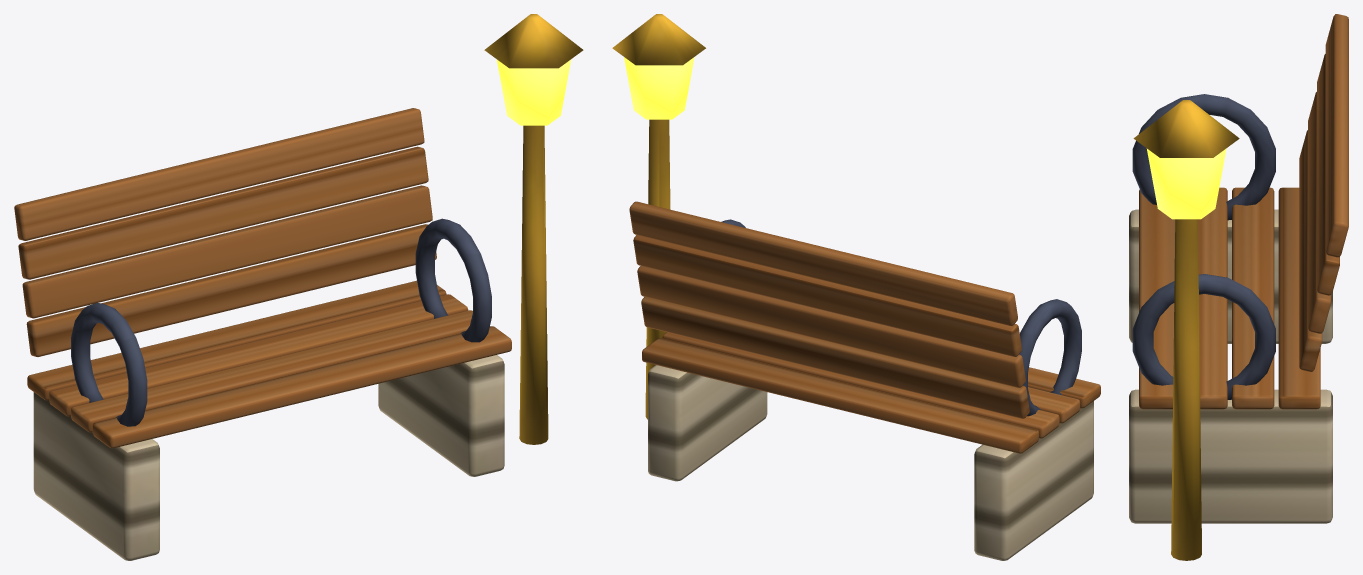
File: g_prop_bench.glb
The picture shows the model from 3 angles, left to right: view 1: azimuth 30°, elevation 25°; view 2: azimuth 150°, elevation 25°; view 3: azimuth 270°, elevation 25°; orthographic projection. The views are drawn at different scales.
Parts seen in each view (by area): view 1: BncBackSlat_1, BncBackSlat_2, BncBackSlat_3, BncBackSlat_0, BncLegBase_-0.48, BncSeatSlat_0, BncLegBase_0.48, BncSeatSlat_1, BncLampPole, BncSeatSlat_2, BncSeatSlat_3, BncArmScroll_-0.48 (+3 smaller); view 2: BncBackSlat_3, BncLegBase_-0.48, BncBackSlat_0, BncBackSlat_1, BncBackSlat_2, BncSeatSlat_3, BncLegBase_0.48, BncSeatSlat_2, BncLampHead, BncArmScroll_-0.48, BncLampRoof, BncLampPole (+2 smaller); view 3: BncLegBase_0.48, BncLampPole, BncSeatSlat_2, BncSeatSlat_3, BncArmScroll_0.48, BncBackSlat_3, BncSeatSlat_1, BncSeatSlat_0, BncArmScroll_-0.48, BncLampHead, BncLampRoof, BncLegBase_-0.48 (+3 smaller).
Part boxes in pixels (left/top/right/bottom): BncBackSlat_1: left=22, top=185, right=432, bottom=318; BncBackSlat_2: left=18, top=146, right=428, bottom=279; BncBackSlat_3: left=14, top=108, right=424, bottom=240; BncBackSlat_0: left=26, top=224, right=436, bottom=356; BncLegBase_-0.48: left=33, top=392, right=159, bottom=560; BncSeatSlat_0: left=92, top=326, right=511, bottom=448; BncLegBase_0.48: left=378, top=355, right=504, bottom=476; BncSeatSlat_1: left=71, top=310, right=472, bottom=432; BncLampPole: left=519, top=125, right=548, bottom=444; BncSeatSlat_2: left=49, top=294, right=468, bottom=416; BncSeatSlat_3: left=27, top=280, right=446, bottom=400; BncArmScroll_-0.48: left=71, top=302, right=147, bottom=426; BncBackSlat_3: left=629, top=201, right=1017, bottom=325; BncLegBase_-0.48: left=974, top=401, right=1093, bottom=560; BncBackSlat_0: left=641, top=296, right=1029, bottom=418; BncBackSlat_1: left=637, top=266, right=1025, bottom=387; BncBackSlat_2: left=633, top=235, right=1021, bottom=356; BncSeatSlat_3: left=642, top=338, right=1038, bottom=453; BncLegBase_0.48: left=648, top=365, right=767, bottom=481; BncSeatSlat_2: left=662, top=332, right=1059, bottom=438; BncLampHead: left=624, top=57, right=694, bottom=119; BncArmScroll_-0.48: left=1019, top=299, right=1081, bottom=416; BncLampRoof: left=612, top=14, right=705, bottom=65; BncLampPole: left=645, top=119, right=670, bottom=419; BncLegBase_0.48: left=1129, top=389, right=1332, bottom=523; BncLampPole: left=1171, top=219, right=1201, bottom=560; BncSeatSlat_2: left=1232, top=187, right=1274, bottom=409; BncSeatSlat_3: left=1278, top=187, right=1320, bottom=409; BncArmScroll_0.48: left=1132, top=274, right=1275, bottom=399; BncBackSlat_3: left=1325, top=14, right=1348, bottom=257; BncSeatSlat_1: left=1198, top=187, right=1227, bottom=409; BncSeatSlat_0: left=1139, top=189, right=1175, bottom=409; BncArmScroll_-0.48: left=1132, top=94, right=1275, bottom=220; BncLampHead: left=1146, top=148, right=1226, bottom=219; BncLampRoof: left=1133, top=100, right=1239, bottom=157; BncLegBase_-0.48: left=1129, top=209, right=1332, bottom=343.
Bounding box in the file's own units: 1.34 × 1.13 × 0.4962.
5 materials, 4 textured.
